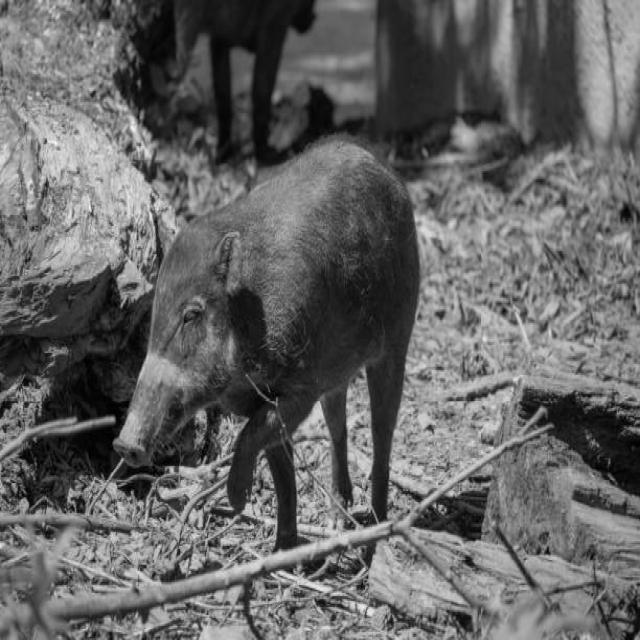boar: (114, 138, 417, 546)
